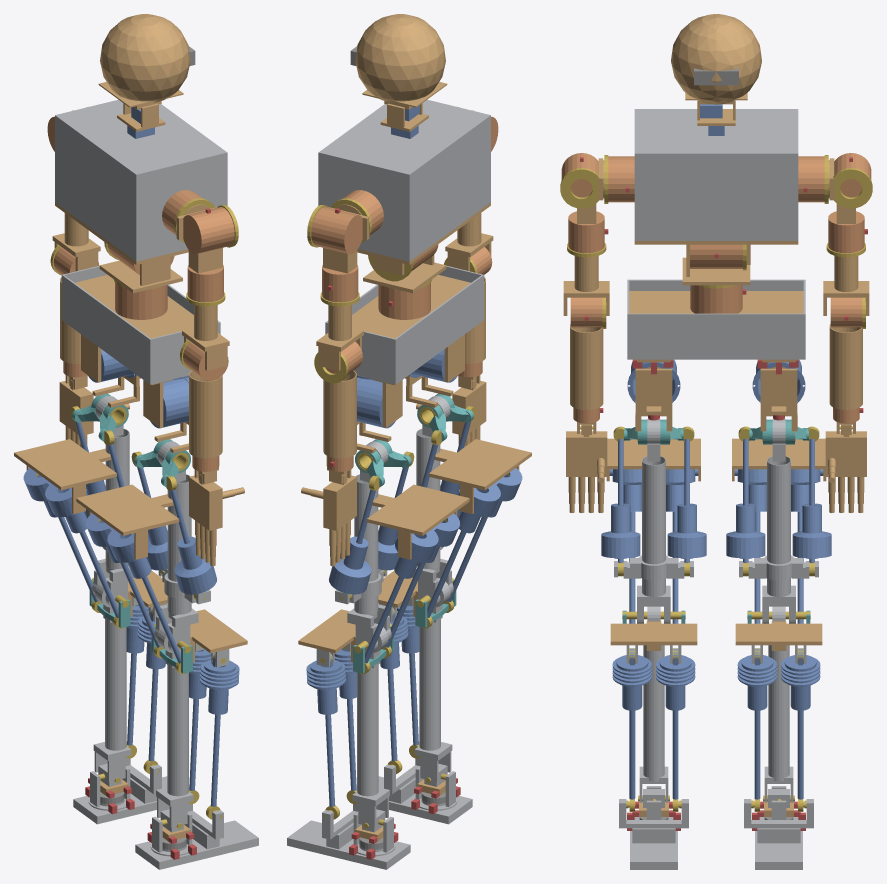
The model's file is bhl_v4.glb.
3 views of the same model, side by side, from view 1: azimuth 30°, elevation 25°; view 2: azimuth 150°, elevation 25°; view 3: azimuth 270°, elevation 25° (orthographic).
Visible parts, largest first — view 1: p009, p000, p100, p165, p281, p171, p287, p072, p104, p325, p060, p280 (+44 smaller); view 2: p009, p000, p100, p281, p165, p287, p171, p030, p104, p209, p018, p164 (+44 smaller); view 3: p009, p000, p100, p128, p244, p104, p030, p072, p171, p287, p184, p300 (+47 smaller).
Boxes of the visible parts, x1,y1,x2,y2 form: p009: [55, 99, 227, 261]; p000: [61, 265, 220, 384]; p100: [100, 14, 190, 102]; p165: [14, 439, 116, 490]; p281: [76, 484, 179, 535]; p171: [105, 618, 126, 750]; p287: [167, 663, 188, 796]; p072: [189, 370, 222, 458]; p104: [75, 275, 193, 338]; p325: [135, 820, 258, 869]; p060: [183, 207, 234, 254]; p280: [86, 513, 151, 578]; p009: [318, 99, 490, 261]; p000: [325, 265, 484, 384]; p100: [355, 14, 445, 102]; p281: [429, 439, 531, 490]; p165: [366, 484, 469, 535]; p287: [419, 618, 440, 750]; p171: [357, 663, 378, 796]; p030: [323, 370, 356, 458]; p104: [352, 275, 470, 338]; p209: [287, 820, 410, 869]; p018: [311, 207, 362, 254]; p164: [394, 513, 459, 578]; p009: [634, 109, 798, 240]; p000: [627, 279, 805, 359]; p100: [671, 14, 761, 104]; p128: [767, 456, 790, 596]; p244: [642, 456, 665, 596]; p104: [629, 291, 803, 313]; p030: [829, 324, 862, 409]; p072: [570, 324, 603, 409]; p171: [768, 645, 789, 781]; p287: [643, 645, 664, 781]; p184: [735, 623, 822, 645]; p300: [610, 623, 697, 645].
Bounding box in the file's own units: 0.3561 × 1.88 × 0.6493.
